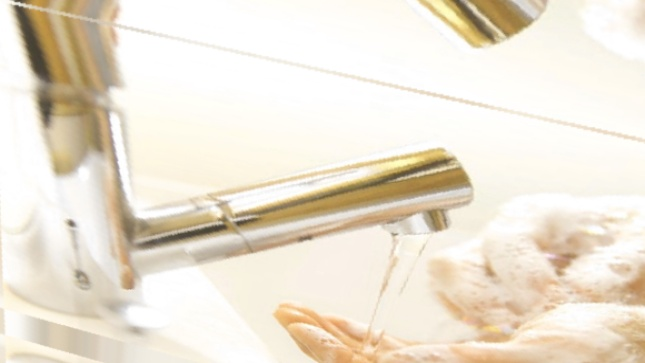washing hand: (55, 14, 644, 362)
